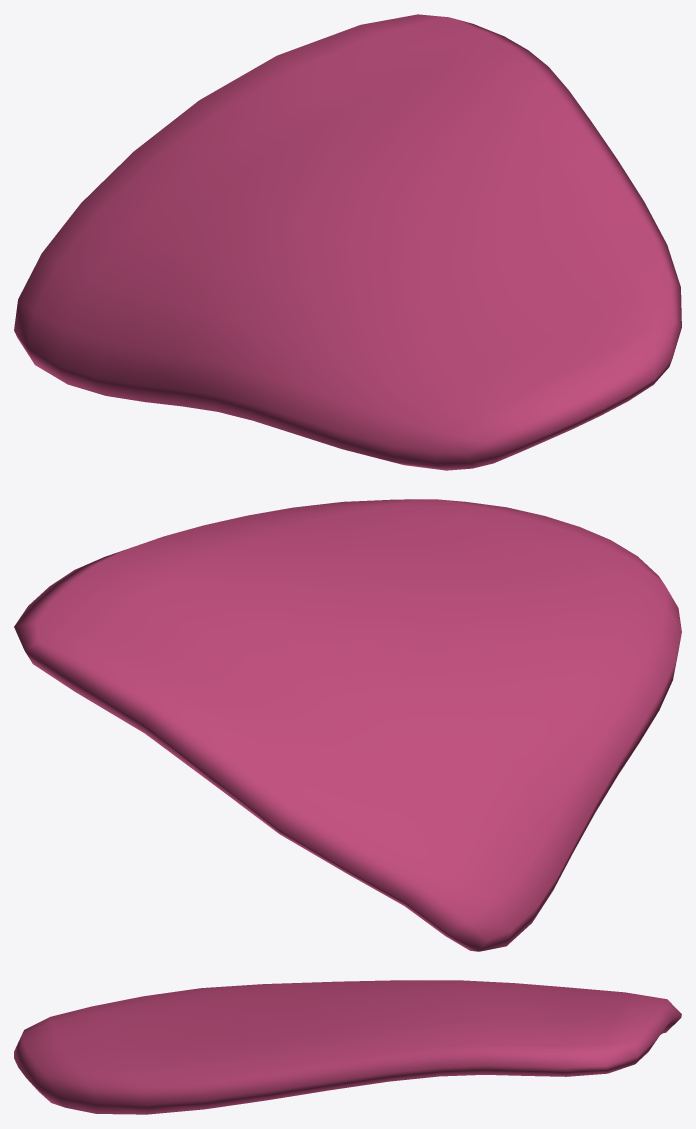
3 renders of one model, top to bottom at view 1: azimuth 30°, elevation 25°; view 2: azimuth 150°, elevation 25°; view 3: azimuth 270°, elevation 25°, orthographic. The views are drawn at different scales.
Parts seen in each view (by area): view 1: 左侧跟皮下囊; view 2: 左侧跟皮下囊; view 3: 左侧跟皮下囊.
Boxes of the visible parts, <box> form: 左侧跟皮下囊: <box>14,14,681,470</box>; 左侧跟皮下囊: <box>14,499,681,951</box>; 左侧跟皮下囊: <box>14,980,681,1114</box>.
Size of the model in its own units: 0.0308 by 0.0143 by 0.0417.
